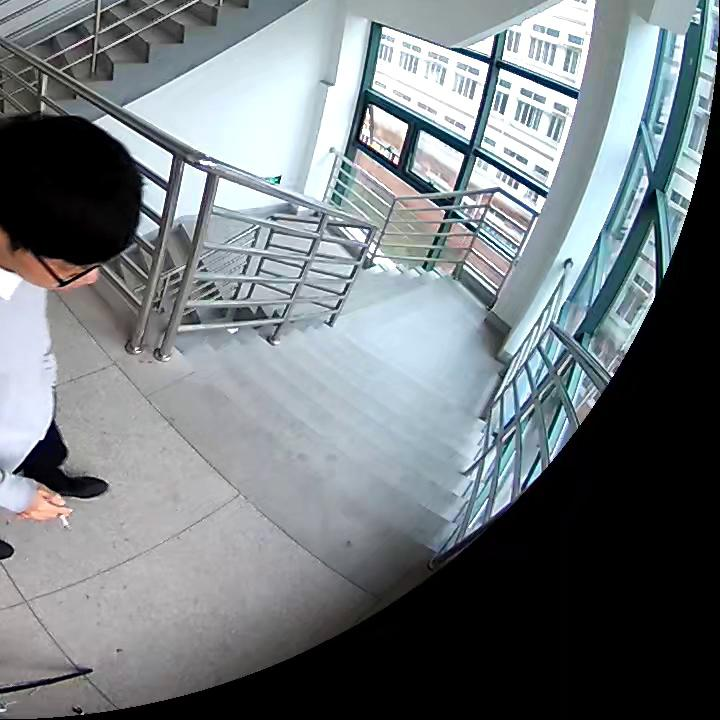handsmoke: (18, 489, 78, 532)
mouthwithoutsmoke: (4, 115, 140, 296)
